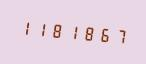eight: (81, 20, 96, 46), (49, 18, 64, 43)
one: (17, 15, 32, 40), (33, 16, 48, 41), (65, 19, 80, 44)
seven: (113, 23, 128, 48)
six: (97, 22, 112, 47)
